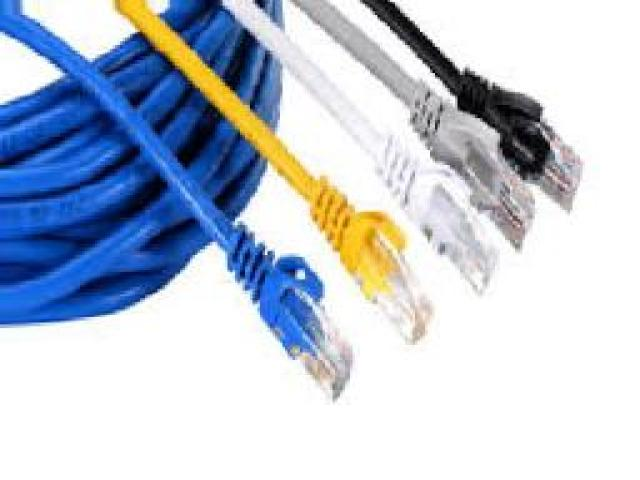wire: (0, 0, 582, 401)
